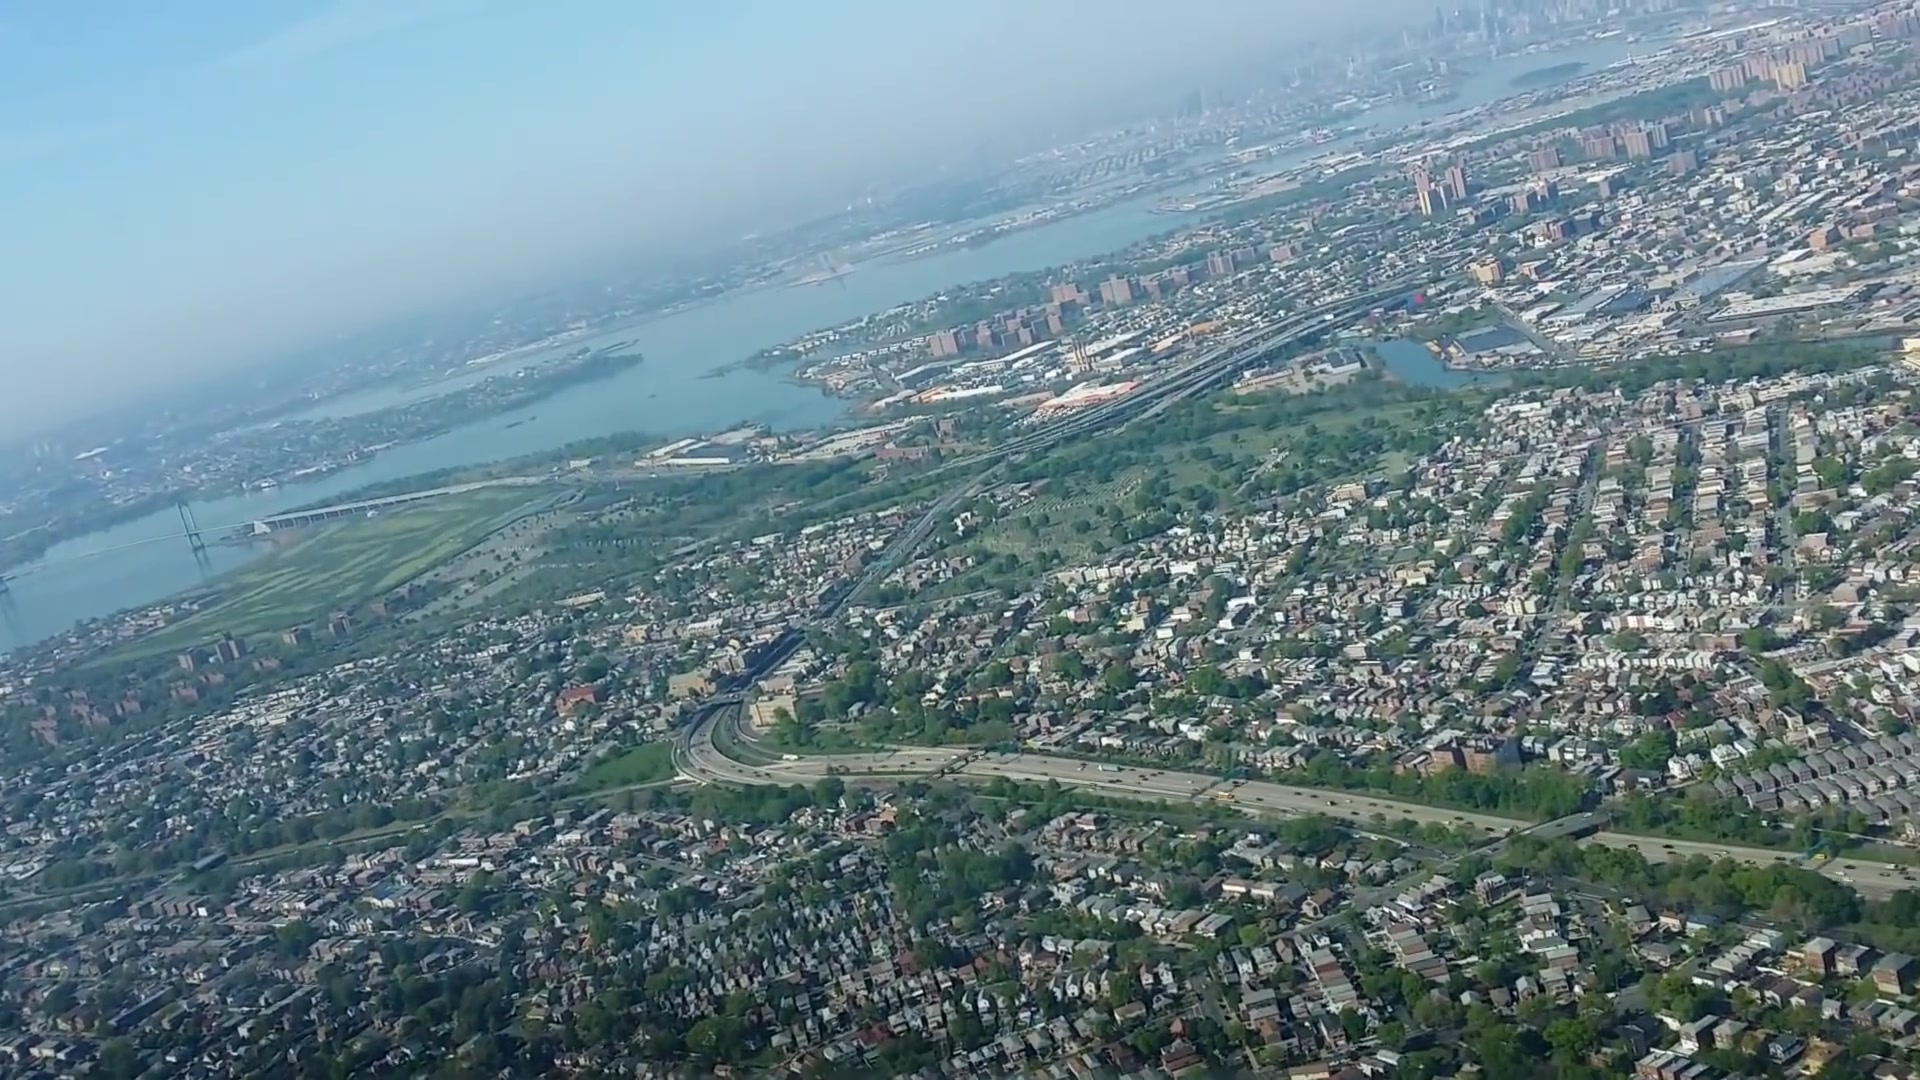runway: (818, 249, 844, 278)
